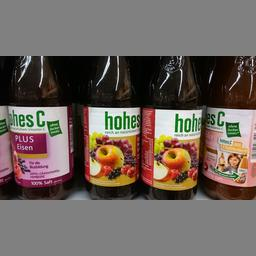juice: (6, 56, 74, 198), (140, 56, 204, 200), (76, 56, 140, 199), (201, 56, 255, 195)
